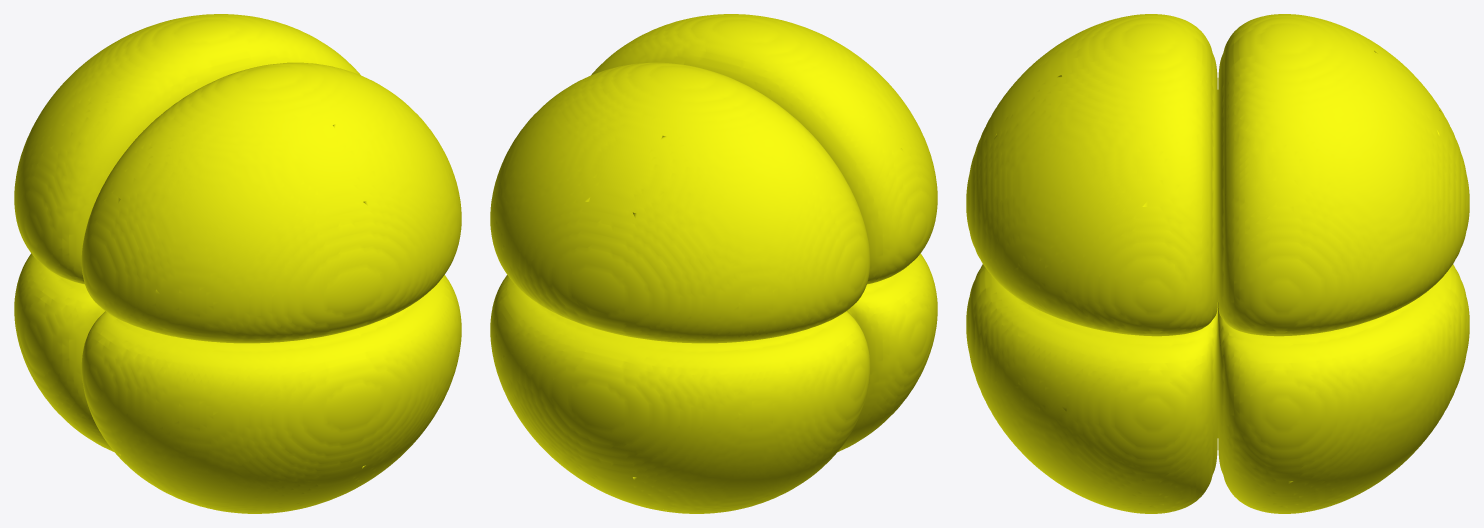
Rendered from orb_n=6_ l=2 _m=-1.fbx.
3 views of the same model, side by side, from view 1: azimuth 30°, elevation 25°; view 2: azimuth 150°, elevation 25°; view 3: azimuth 270°, elevation 25° (orthographic). The views are drawn at different scales.
Parts seen in each view (by area): view 1: orb_n=6_ l=2 _m=-1; view 2: orb_n=6_ l=2 _m=-1; view 3: orb_n=6_ l=2 _m=-1.
Part boxes in pixels (x1,y1,x2,y2): orb_n=6_ l=2 _m=-1: (14, 14, 461, 513); orb_n=6_ l=2 _m=-1: (490, 14, 937, 513); orb_n=6_ l=2 _m=-1: (966, 14, 1469, 513).
Bounding box in the file's own units: 19370 × 22384 × 22384.
